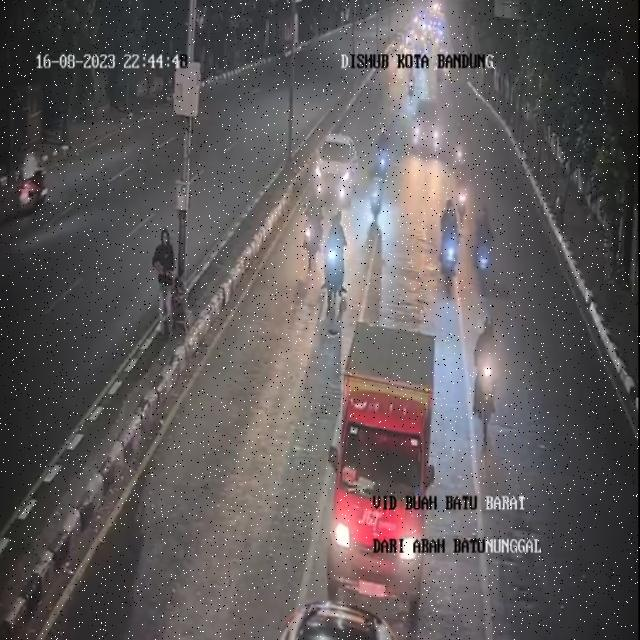cars: (318, 322, 444, 614), (256, 597, 418, 640), (412, 99, 442, 158)
motorcycle: (468, 306, 508, 462), (312, 133, 359, 205), (321, 208, 348, 310), (472, 203, 498, 305), (438, 200, 463, 297), (304, 188, 326, 269), (368, 159, 390, 235), (450, 119, 470, 192), (371, 124, 396, 182), (452, 164, 474, 228), (404, 68, 417, 102)
